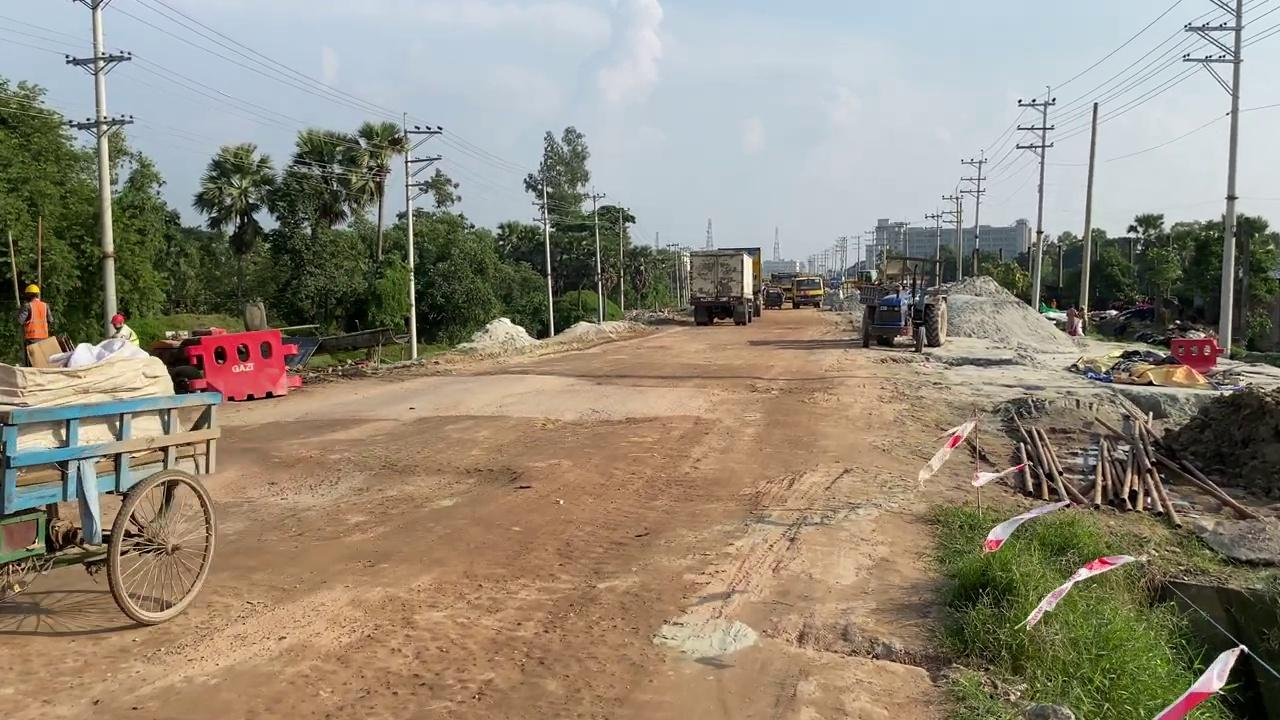Construction-barrier: (149, 298, 320, 402)
Pole: (1216, 0, 1243, 358), (90, 4, 118, 338), (1077, 100, 1097, 328), (402, 112, 418, 360), (541, 179, 555, 337)
Pothole: (1156, 576, 1280, 720)
Railroad-crossing: (0, 384, 223, 626)
Traffic-sign: (191, 140, 278, 323), (522, 124, 591, 337)
Tree: (855, 258, 948, 353), (680, 246, 762, 326), (791, 275, 824, 309)
